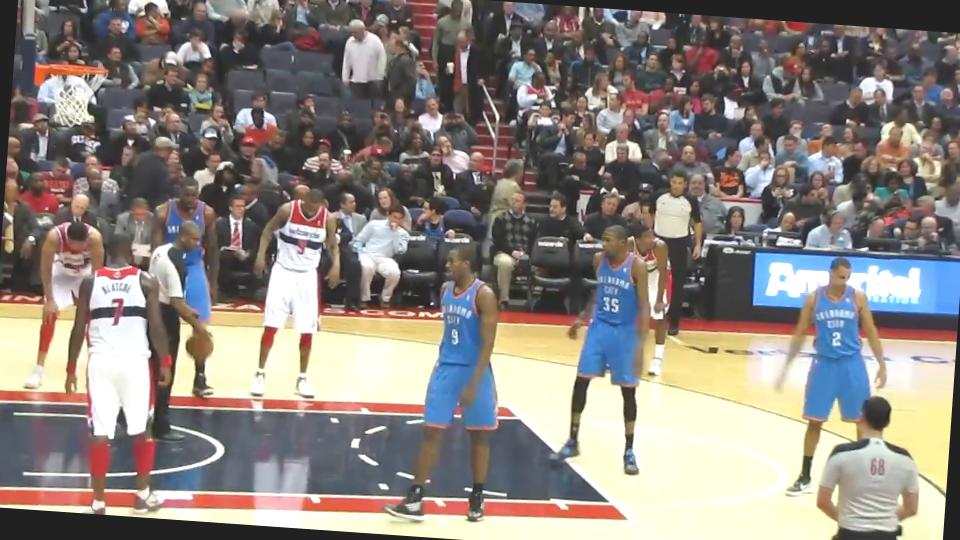hoop: (28, 58, 112, 84)
